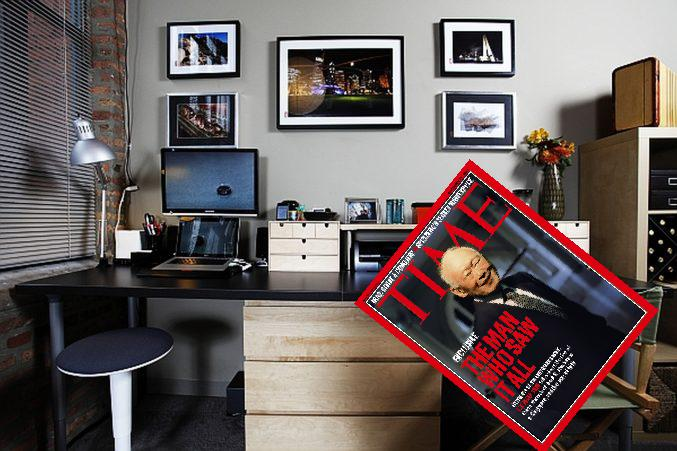times: (352, 157, 659, 450)
